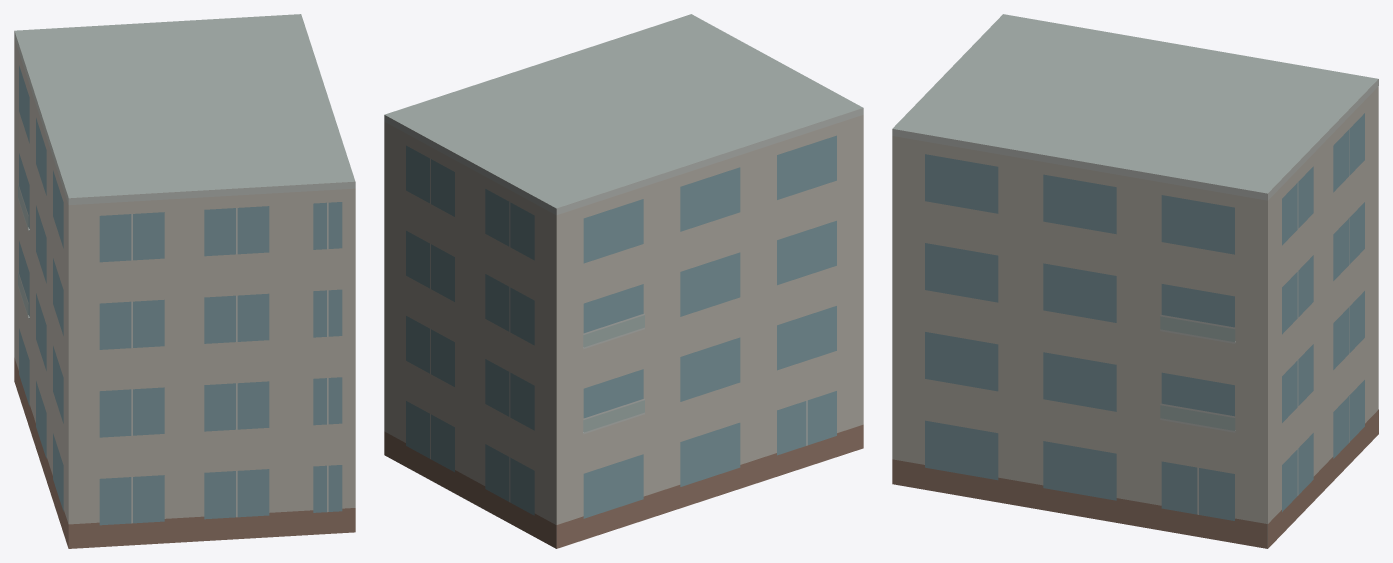
The model's file is residential-4f1ce406-e751-4cb7-a77c-5d424a1cac3e.glb.
3 views of the same model, side by side, from view 1: azimuth 30°, elevation 25°; view 2: azimuth 150°, elevation 25°; view 3: azimuth 270°, elevation 25° (orthographic). The views are drawn at different scales.
Visible parts, largest first — view 1: residential-4f1ce406-e751-4cb7-a77c-5d424a1cac3e.tmp; view 2: residential-4f1ce406-e751-4cb7-a77c-5d424a1cac3e.tmp; view 3: residential-4f1ce406-e751-4cb7-a77c-5d424a1cac3e.tmp.
Part boxes in pixels (left/top/right/bottom): residential-4f1ce406-e751-4cb7-a77c-5d424a1cac3e.tmp: left=14, top=14, right=355, bottom=548; residential-4f1ce406-e751-4cb7-a77c-5d424a1cac3e.tmp: left=384, top=14, right=863, bottom=548; residential-4f1ce406-e751-4cb7-a77c-5d424a1cac3e.tmp: left=892, top=14, right=1378, bottom=548.
Bounding box in the file's own units: 13.23 × 12.2 × 15.15.
